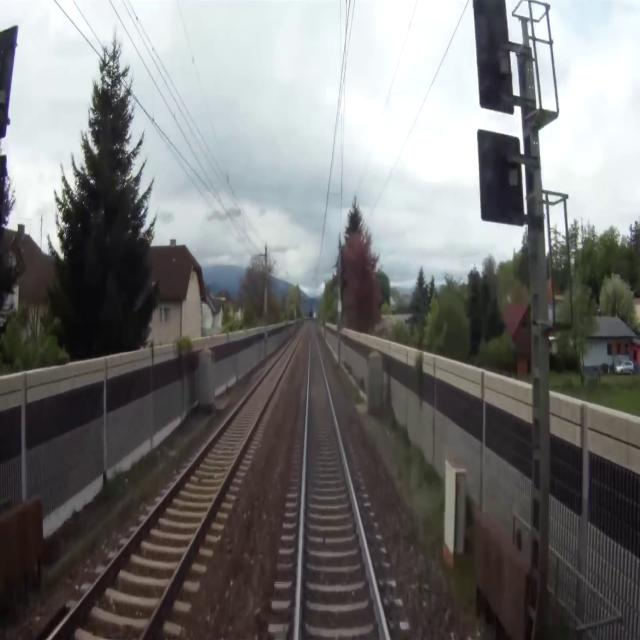rail-track: (53, 335, 299, 639), (299, 338, 385, 639)
